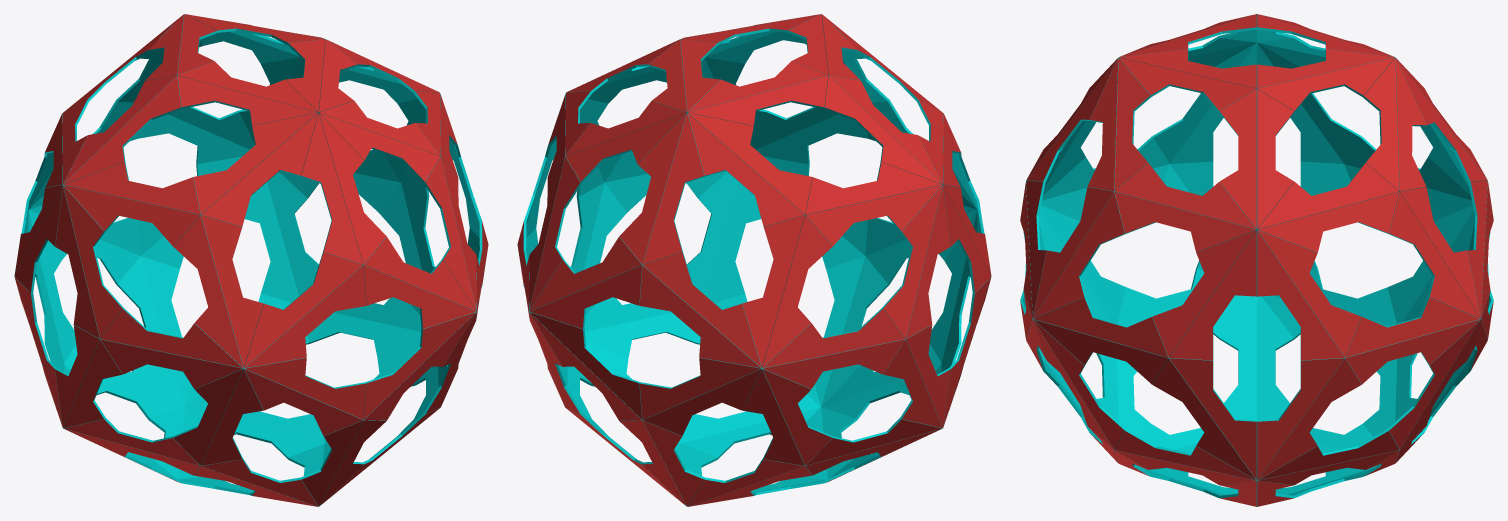
The model's file is DisdyakisTriacontahedronS.glb.
The picture shows the model from 3 angles, left to right: view 1: azimuth 30°, elevation 25°; view 2: azimuth 150°, elevation 25°; view 3: azimuth 270°, elevation 25°; orthographic projection. The views are drawn at different scales.
Visible parts, largest first — view 1: root; view 2: root; view 3: root.
Boxes of the visible parts, x1=… form: root: x1=14, y1=14, x2=488, y2=506; root: x1=517, y1=14, x2=991, y2=506; root: x1=1020, y1=14, x2=1493, y2=506.
Bounding box in the file's own units: 8.94 × 8.94 × 8.94.
